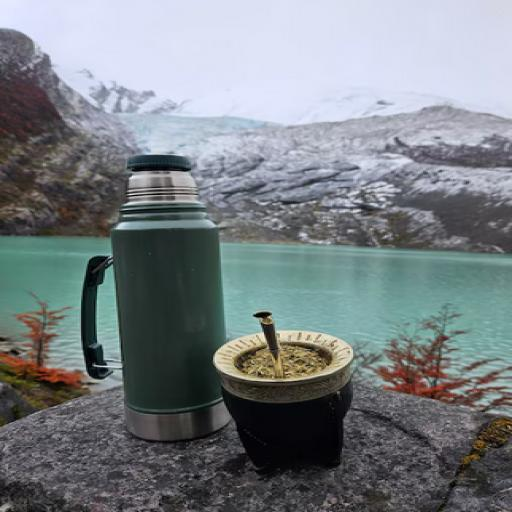mate: (214, 312, 352, 470)
termo: (82, 156, 228, 441)
